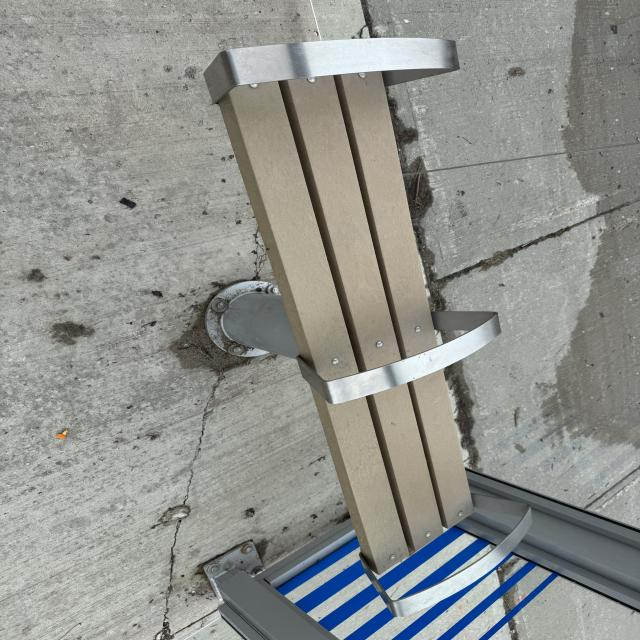Bench: (217, 56, 550, 560)
